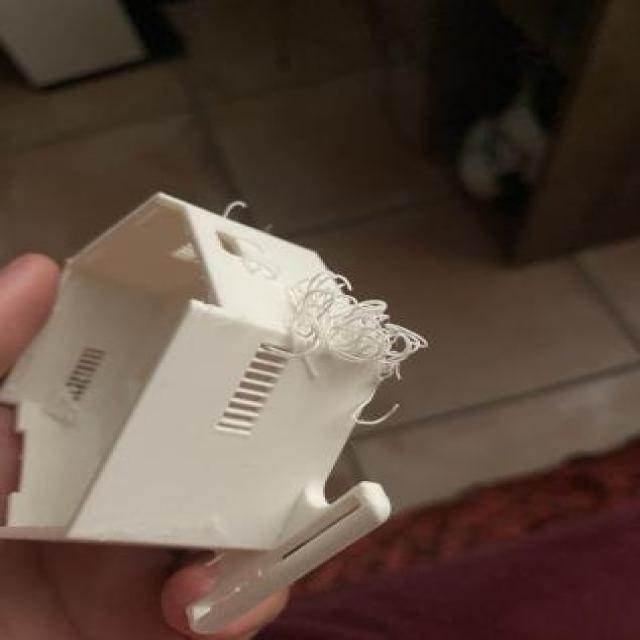spaghetti: (276, 266, 444, 400)
